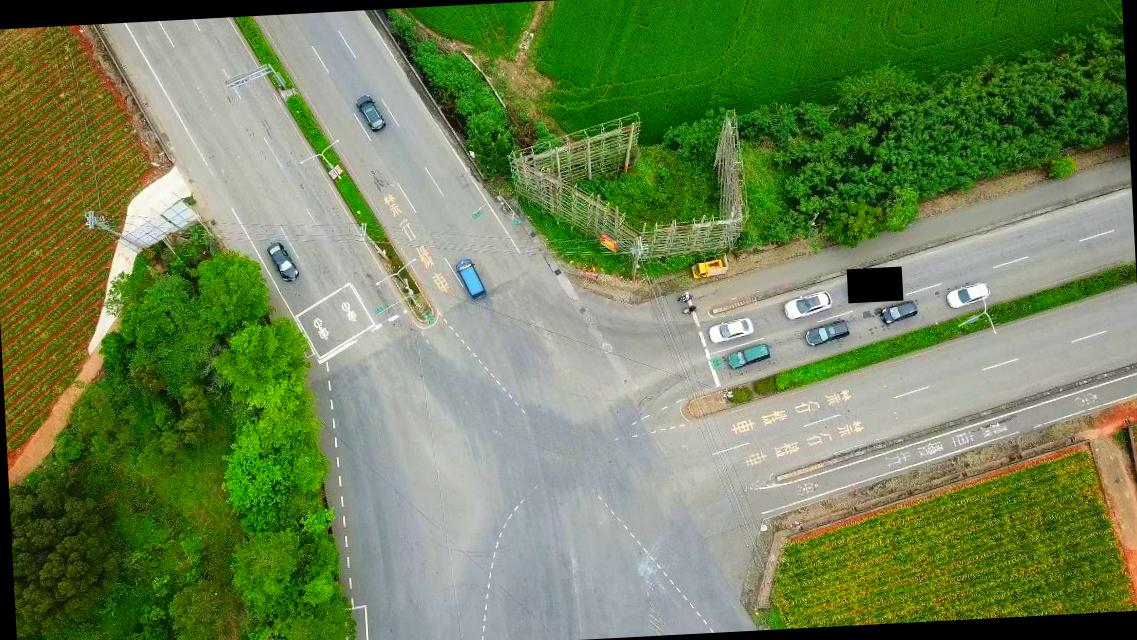vehicle: (266, 240, 298, 287), (706, 316, 754, 346), (454, 258, 485, 304), (782, 291, 832, 318), (944, 281, 992, 308), (804, 320, 850, 348), (724, 342, 772, 368), (353, 91, 383, 132), (877, 300, 918, 326), (690, 256, 727, 278)
